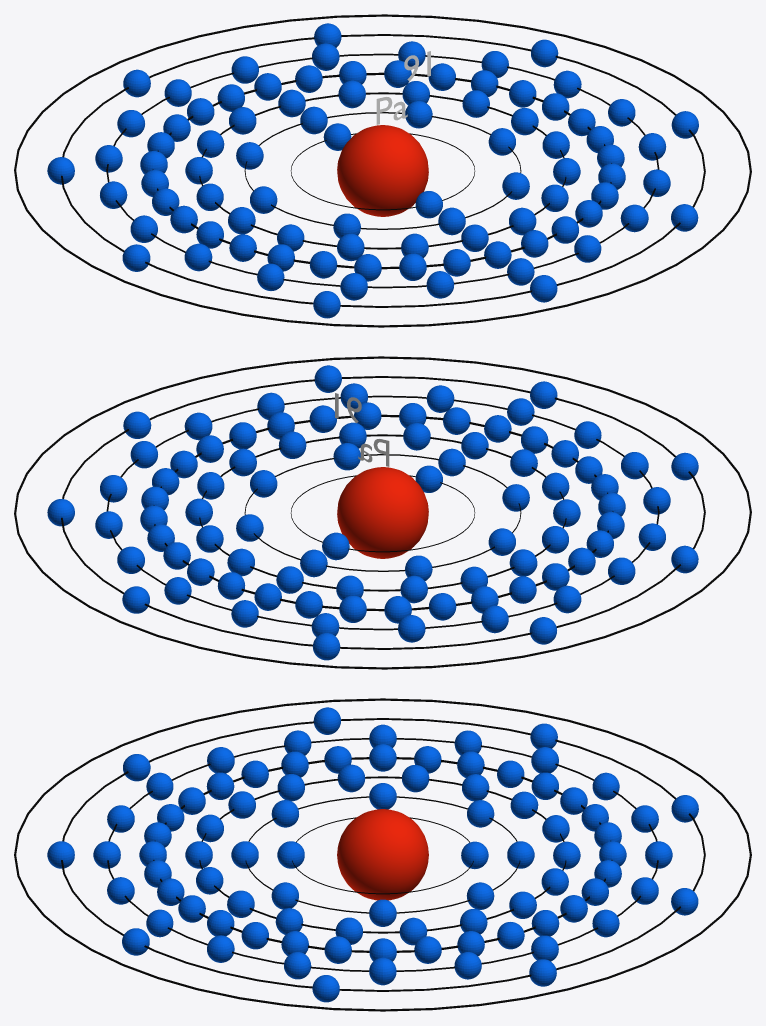
3 renders of one model, top to bottom at view 1: azimuth 30°, elevation 25°; view 2: azimuth 150°, elevation 25°; view 3: azimuth 270°, elevation 25°, orthographic.
Parts seen in each view (by area): view 1: Pa4, Pa5, Pa3, Proton, Pa6, Pa2, n7, n6, n5, Pa1, n3, n4 (+1 smaller); view 2: Pa4, Pa5, Pa3, Proton, Pa6, Pa2, n7, n6, n5, Pa1, n3, n4 (+1 smaller); view 3: Pa4, Pa5, Pa3, Proton, Pa6, Pa2, n7, n6, n5, Pa1, n3, n4 (+2 smaller).
Part boxes in pixels (box(x1,y1,x2,y2)): Pa4: box(140, 60, 625, 281); Pa5: box(95, 41, 670, 300); Pa3: box(185, 80, 580, 261); Proton: box(337, 125, 428, 216); Pa6: box(47, 23, 698, 318); Pa2: box(236, 101, 529, 238); n7: box(14, 14, 751, 327); n6: box(61, 34, 705, 307); n5: box(106, 53, 659, 288); Pa1: box(323, 123, 442, 218); n3: box(199, 92, 566, 249); n4: box(152, 72, 611, 269); Pa4: box(140, 402, 625, 623); Pa5: box(95, 383, 670, 642); Pa3: box(185, 422, 580, 603); Proton: box(337, 467, 428, 558); Pa6: box(47, 365, 698, 660); Pa2: box(236, 443, 529, 580); n7: box(14, 356, 751, 669); n6: box(61, 376, 705, 649); n5: box(106, 395, 659, 630); Pa1: box(322, 465, 442, 560); n3: box(199, 434, 566, 591); n4: box(153, 414, 613, 611); Pa4: box(139, 744, 626, 963); Pa5: box(93, 724, 672, 985); Pa3: box(185, 764, 580, 945); Proton: box(337, 809, 428, 900); Pa6: box(47, 707, 698, 1002); Pa2: box(231, 783, 534, 926); n7: box(14, 698, 751, 1011); n6: box(61, 718, 705, 991); n5: box(107, 738, 658, 971); Pa1: box(277, 841, 488, 869); n3: box(199, 776, 566, 933); n4: box(153, 757, 612, 952).
Size of the model in its own units: 802 by 180 by 802.
